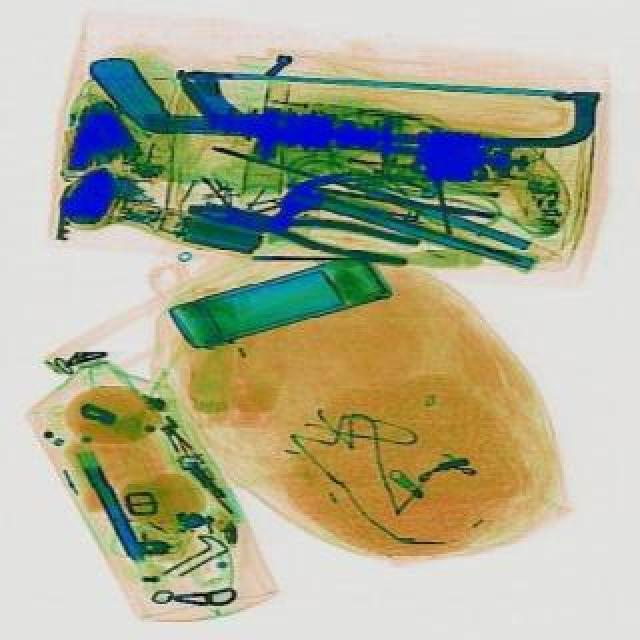wrench: (180, 190, 416, 268)
